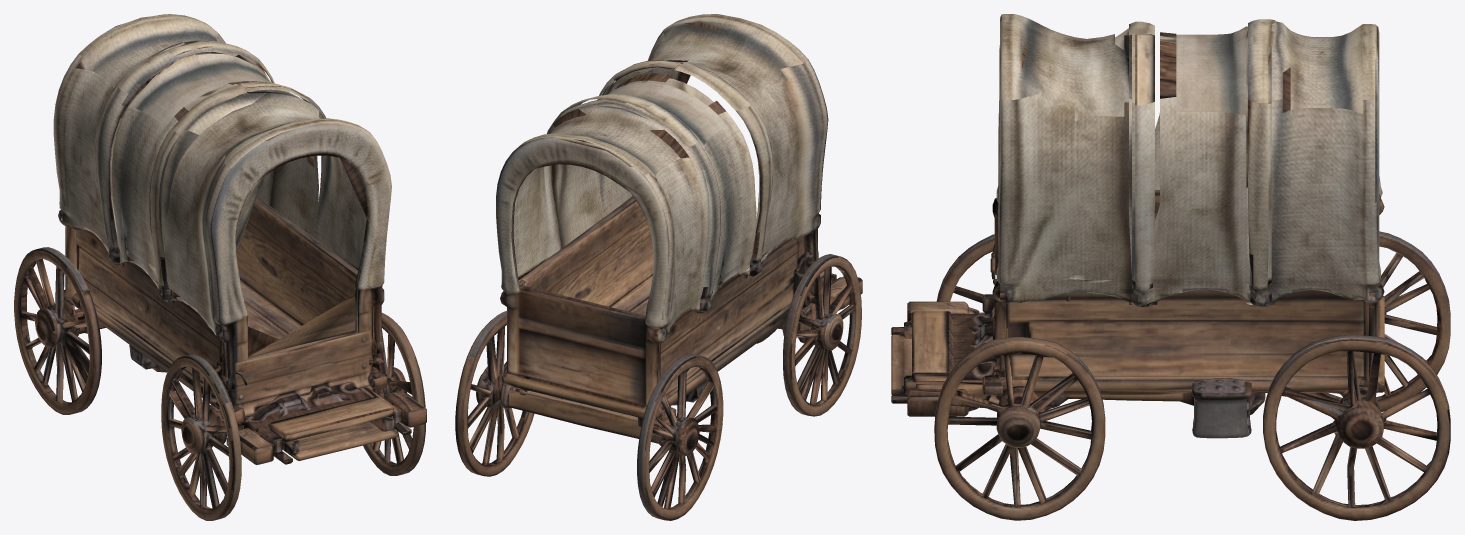
The model's file is caravane_real.glb.
The picture shows the model from 3 angles, left to right: view 1: azimuth 30°, elevation 25°; view 2: azimuth 150°, elevation 25°; view 3: azimuth 270°, elevation 25°; orthographic projection. The views are drawn at different scales.
Visible parts, largest first — view 1: mesh_rep_0_ori_repair_quad; view 2: mesh_rep_0_ori_repair_quad; view 3: mesh_rep_0_ori_repair_quad.
Part boxes in pixels (<box>): mesh_rep_0_ori_repair_quad: <box>14,14,426,520</box>; mesh_rep_0_ori_repair_quad: <box>455,14,862,520</box>; mesh_rep_0_ori_repair_quad: <box>891,14,1450,520</box>.
Size of the model in its own units: 0.4994 by 0.812 by 0.9441.
1 material, 1 textured.
